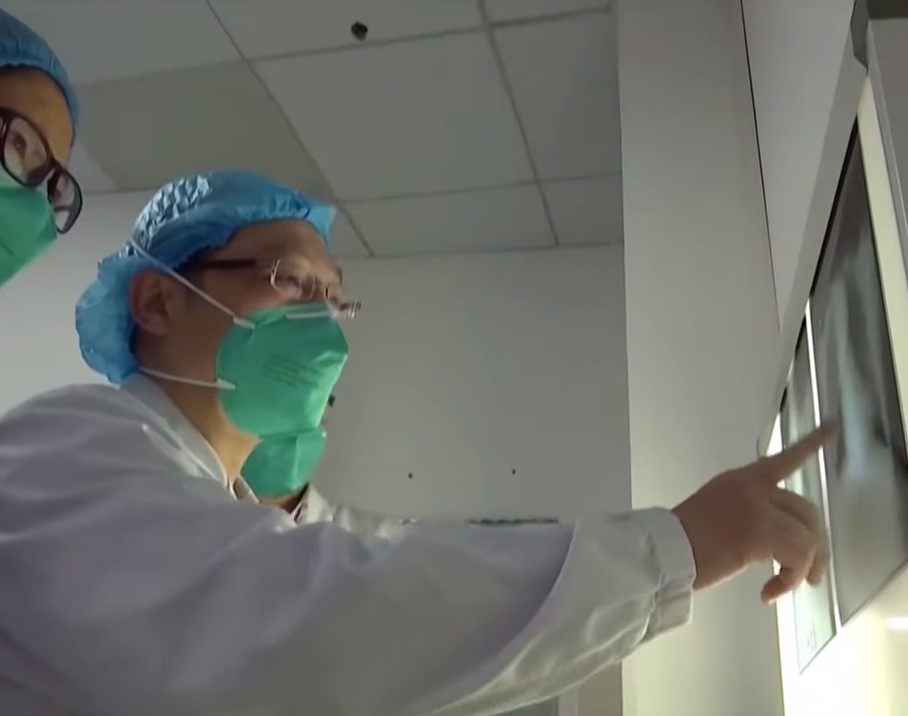face_with_mask: (82, 180, 357, 432), (0, 9, 77, 301)
